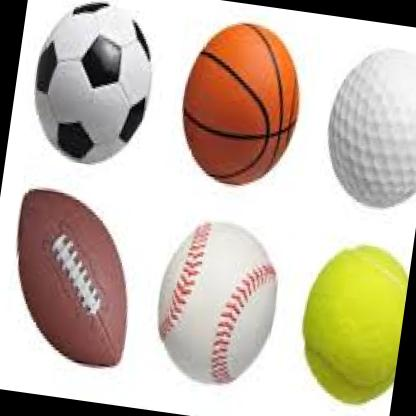ball: (168, 10, 314, 199), (144, 212, 289, 395), (22, 0, 164, 175), (287, 230, 413, 412), (313, 33, 416, 217)
